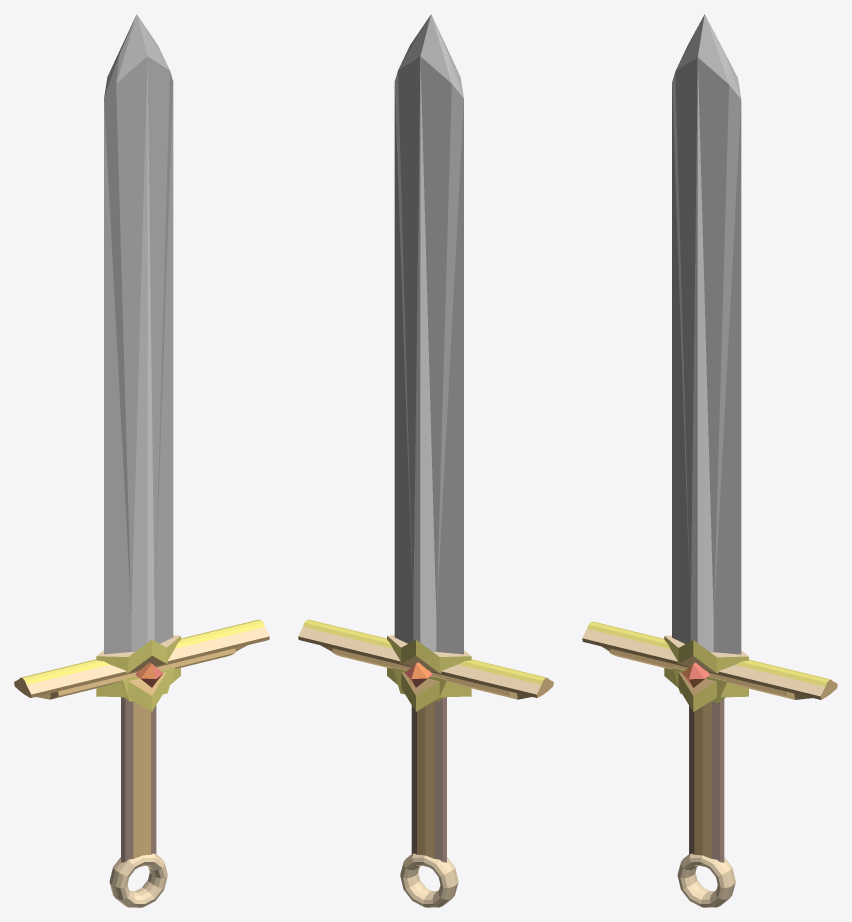
The model's file is silver_sword.glb.
3 renders of one model, left to right at view 1: azimuth 30°, elevation 25°; view 2: azimuth 150°, elevation 25°; view 3: azimuth 330°, elevation 25°, orthographic.
Parts seen in each view (by area): view 1: group67682137; view 2: group67682137; view 3: group67682137.
Part boxes in pixels (bbox=[...]): group67682137: bbox=[14, 14, 269, 907]; group67682137: bbox=[298, 14, 553, 907]; group67682137: bbox=[582, 14, 837, 907].
Bounding box in the file's own units: 0.31 × 1.11 × 0.08.
